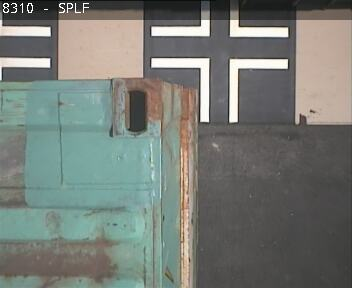groundmarker_1: (151, 57, 288, 122), (150, 1, 289, 38)
